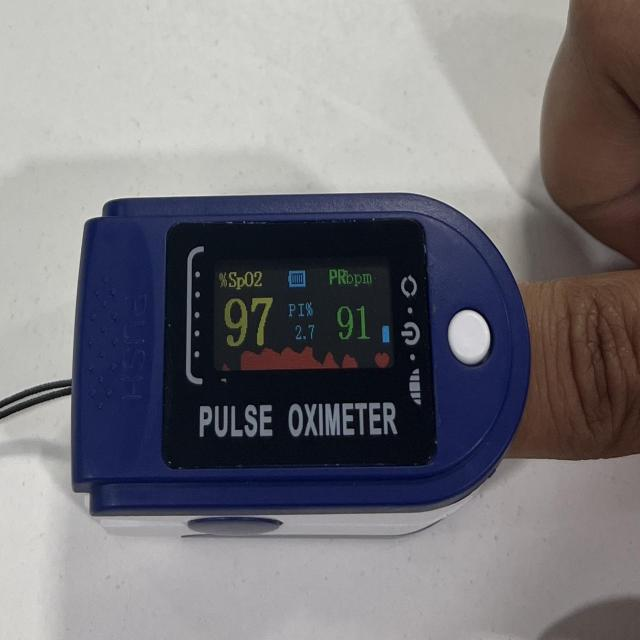spo2: (67, 194, 532, 541)
